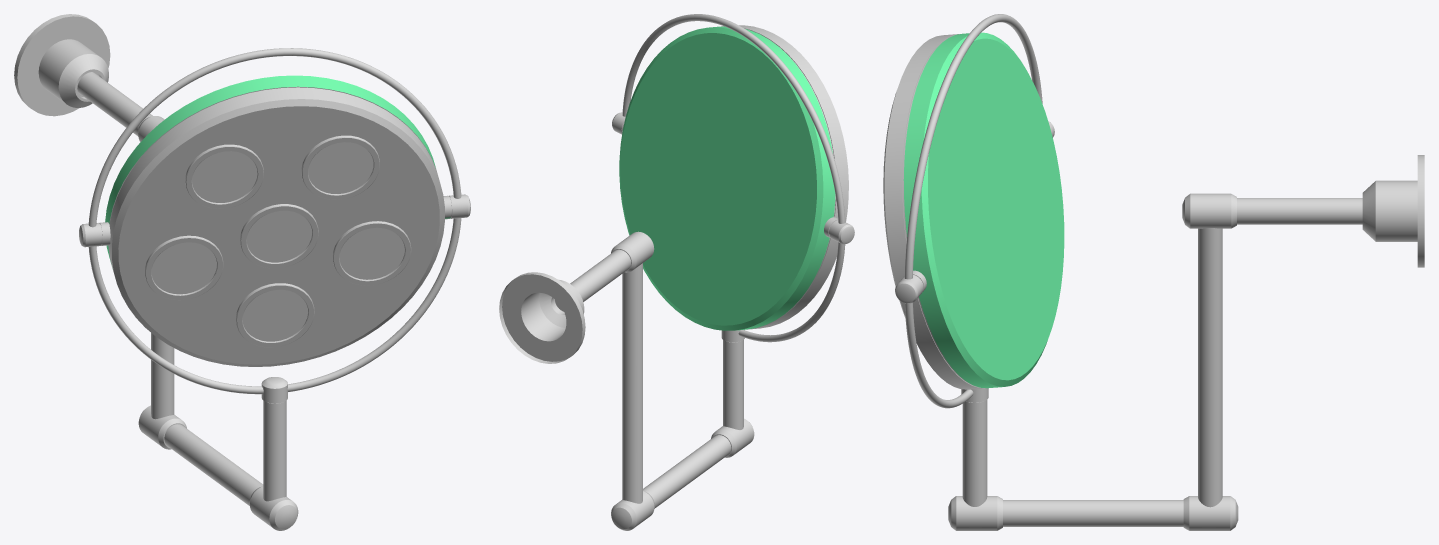
The model's file is light.fbx.
The picture shows the model from 3 angles, left to right: view 1: azimuth 30°, elevation 25°; view 2: azimuth 150°, elevation 25°; view 3: azimuth 270°, elevation 25°; orthographic projection. The views are drawn at different scales.
Visible parts, largest first — view 1: SurgeryLamp; view 2: SurgeryLamp; view 3: SurgeryLamp.
Boxes of the visible parts, x1=… form: SurgeryLamp: x1=14, y1=14, x2=470, y2=530; SurgeryLamp: x1=499, y1=14, x2=854, y2=530; SurgeryLamp: x1=883, y1=14, x2=1424, y2=530.
Size of the model in its own units: 114 by 159 by 156.
